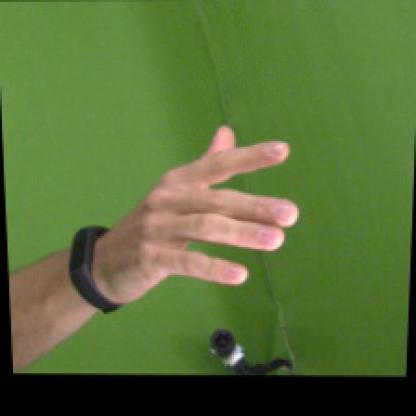Hand: (102, 124, 299, 304)
